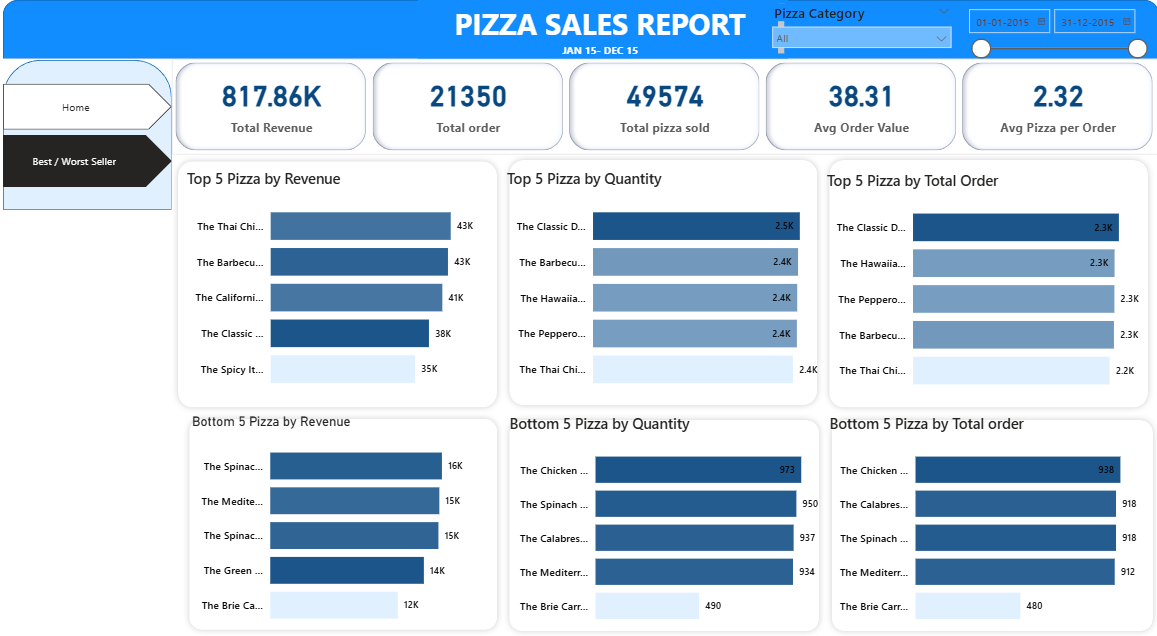

The dashboard page shown, as its layout file describes it:
{"tool":"powerbi","page":{"name":"Best / Worst Seller","canvas":[1500,820],"ordinal":1},"visuals":[{"type":"cardVisual","fields":{"Data":["pizza_sales.Total Revenue","pizza_sales.Total order","pizza_sales.Total pizza sold","pizza_sales.Avg Order Value","pizza_sales.Avg Pizza per Order"]},"box":[230,75.6,1270.4,123.8],"z":0},{"type":"shape","box":[12.9,0,1487.5,75.6],"z":1000},{"type":"textbox","box":[546.7,0,476,75.6],"z":2000},{"type":"shape","box":[229.5,199.8,426.4,332.9],"z":3000},{"type":"shape","box":[655.9,198.3,412.3,331.5],"z":4000},{"type":"shape","box":[243.7,531.3,412.3,287.6],"z":5000},{"type":"shape","box":[656.1,532.3,414.9,287.8],"z":6000},{"type":"shape","box":[1071,532.3,429.4,287.8],"z":7000},{"type":"slicer","fields":{"Values":["pizza_sales.pizza_category"]},"box":[991.7,0,250.8,75.1],"z":8000},{"type":"slicer","fields":{"Values":["pizza_sales.order_date"]},"box":[1242.5,1.4,250.8,75.1],"z":9000},{"type":"shape","box":[12.9,77.2,217.1,193],"z":10000},{"type":"shape","box":[1067.8,197.8,426.1,334.5],"z":11000},{"type":"barChart","title":"Top 5 Pizza by Revenue","fields":{"Category":["pizza_sales.pizza_name"],"Y":["pizza_sales.Total Revenue"]},"box":[243.7,216.8,400.9,300.3],"z":12000},{"type":"barChart","title":"Bottom 5 Pizza by Revenue","fields":{"Category":["pizza_sales.pizza_name"],"Y":["pizza_sales.Total Revenue"]},"box":[250.9,532.3,371.5,287.8],"z":13000},{"type":"barChart","title":"Top 5 Pizza by Quantity","fields":{"Category":["pizza_sales.pizza_name"],"Y":["Sum(pizza_sales.quantity)"]},"box":[656.1,217.1,411.7,300.7],"z":14000},{"type":"barChart","title":"Bottom 5 Pizza by Quantity","fields":{"Category":["pizza_sales.pizza_name"],"Y":["Sum(pizza_sales.quantity)"]},"box":[659.3,532.3,411.7,287.8],"z":15000},{"type":"barChart","title":"Top 5 Pizza by Total Order","fields":{"Category":["pizza_sales.pizza_name"],"Y":["pizza_sales.Total order"]},"box":[1067.8,218.7,411.7,300.7],"z":16000},{"type":"barChart","title":"Bottom 5 Pizza by Total order","fields":{"Category":["pizza_sales.pizza_name"],"Y":["pizza_sales.Total order"]},"box":[1071,532.3,411.7,287.8],"z":17000},{"type":"pageNavigator","box":[12.9,107.7,217.1,59.5],"z":18000},{"type":"pageNavigator","box":[12.9,173.7,217.1,67.5],"z":19000}]}

Visuals, with their boxes in screenshot pixels (x1, y1, x2, y2), scaled from the page's 1500x820 canvas onto the 1157x636 screenshot:
cardVisual - pizza_sales.Total Revenue x pizza_sales.Total order: (177,59,1156,155)
shape: (10,0,1156,59)
textbox: (422,0,789,59)
shape: (177,155,506,413)
shape: (506,154,824,411)
shape: (188,412,506,635)
shape: (506,413,826,635)
shape: (826,413,1156,635)
slicer - pizza_sales.pizza_category: (765,0,958,58)
slicer - pizza_sales.order_date: (958,1,1152,59)
shape: (10,60,177,210)
shape: (824,153,1152,413)
"Top 5 Pizza by Revenue" barChart: (188,168,497,401)
"Bottom 5 Pizza by Revenue" barChart: (194,413,480,635)
"Top 5 Pizza by Quantity" barChart: (506,168,824,402)
"Bottom 5 Pizza by Quantity" barChart: (509,413,826,635)
"Top 5 Pizza by Total Order" barChart: (824,170,1141,403)
"Bottom 5 Pizza by Total order" barChart: (826,413,1144,635)
pageNavigator: (10,84,177,130)
pageNavigator: (10,135,177,187)
